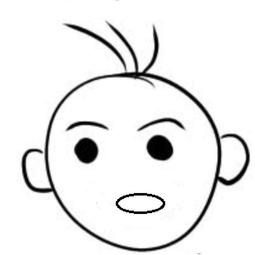ear: (18, 141, 60, 198), (214, 128, 251, 187)
eye: (69, 136, 104, 171), (142, 134, 176, 166)
eyebrow: (134, 116, 189, 134), (65, 119, 113, 137)
open_mouth: (111, 189, 168, 221)
